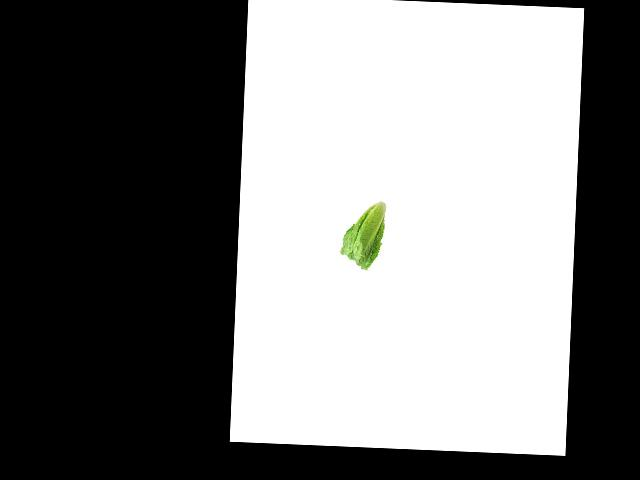lettuce: (339, 193, 387, 270)
